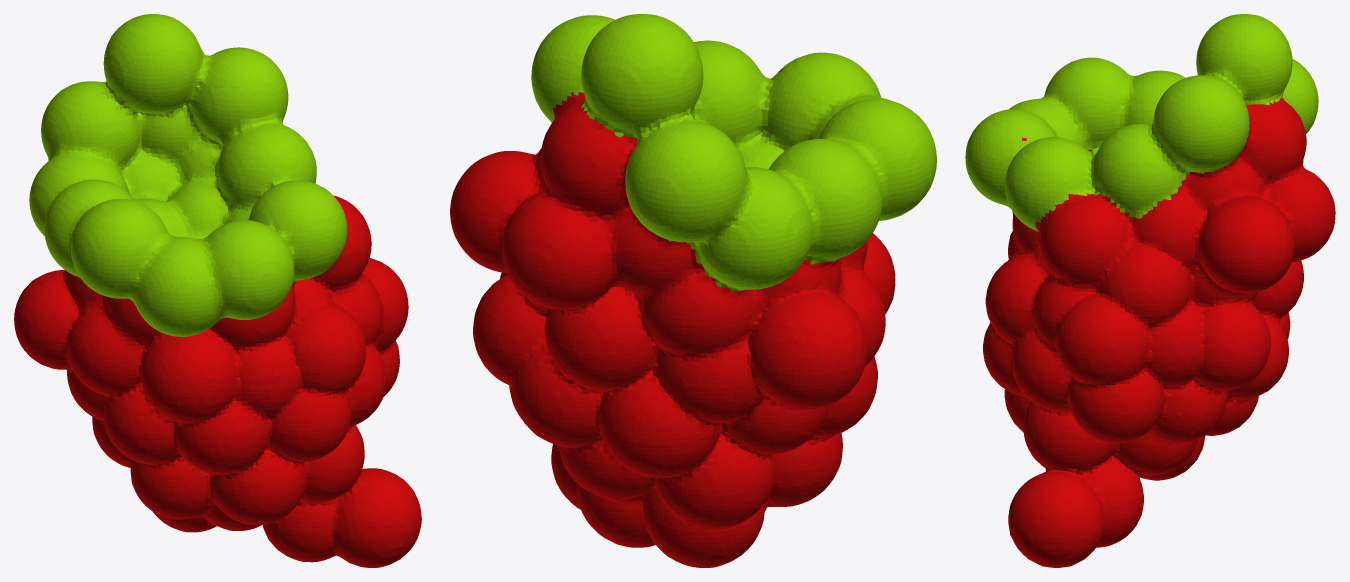
Rendered from spike_new_painted.obj.
3 renders of one model, left to right at view 1: azimuth 30°, elevation 25°; view 2: azimuth 150°, elevation 25°; view 3: azimuth 270°, elevation 25°, orthographic. The views are drawn at different scales.
Parts seen in each view (by area): view 1: Sphere; view 2: Sphere; view 3: Sphere.
Part boxes in pixels (left/top/right/bottom): Sphere: left=14, top=14, right=421, bottom=567; Sphere: left=450, top=14, right=936, bottom=567; Sphere: left=965, top=14, right=1335, bottom=567.
Size of the model in its own units: 7.56 by 10.98 by 7.55.
